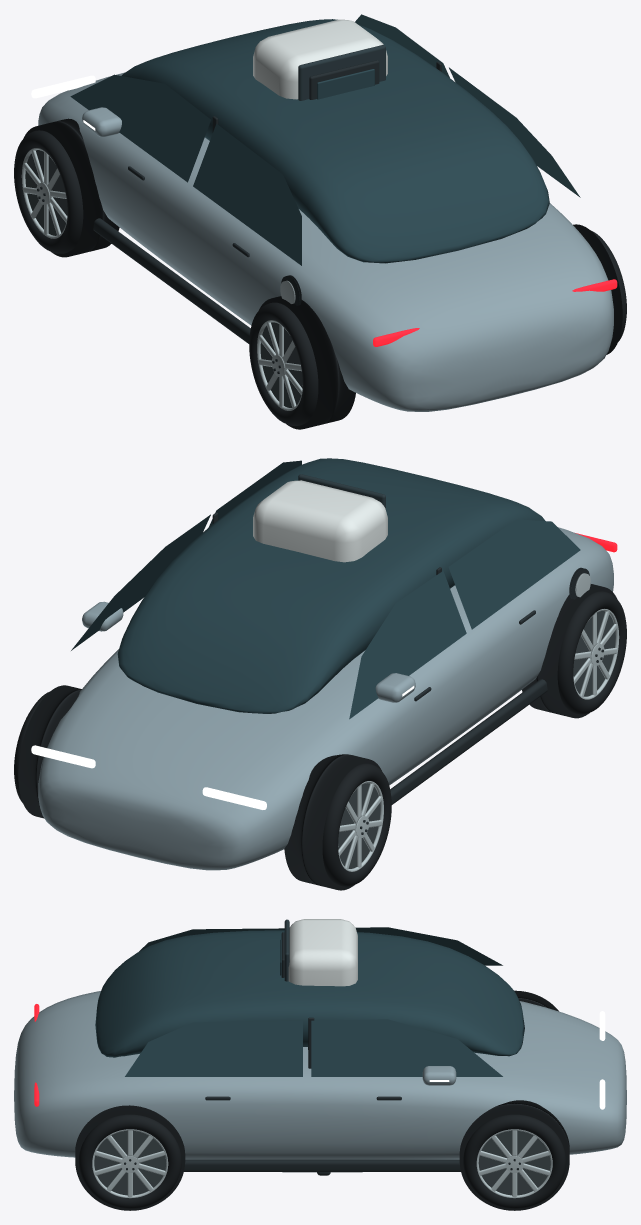
File: simulator-model.glb
The picture shows the model from 3 angles, top to bottom: view 1: azimuth 30°, elevation 25°; view 2: azimuth 150°, elevation 25°; view 3: azimuth 270°, elevation 25°; orthographic projection. The views are drawn at different scales.
Visible parts, largest first — view 1: Sculpted body, Panoramic glass canopy, Rear side window, Front side window, Upper cabinet, Tire sidewall, Tire sidewall.001, Tire, Tire.001, Lower rocker, Rear side window.001, Front fascia (+8 smaller); view 2: Sculpted body, Panoramic glass canopy, Upper cabinet, Rear side window, Front side window, Tire.001, Tire sidewall.001, Tire sidewall, Tire.003, Lower rocker, Front side window.001, Tire (+8 smaller); view 3: Sculpted body, Panoramic glass canopy, Rear side window.001, Front side window.001, Upper cabinet, Tire sidewall.002, Tire sidewall.003, Lower rocker.001, Alloy rim.003, Alloy rim.002, Tire.003, Tire.002 (+5 smaller).
Part boxes in pixels (left/top/right/bottom): Sculpted body: left=38, top=72, right=613, bottom=411; Panoramic glass canopy: left=121, top=19, right=549, bottom=263; Rear side window: left=193, top=123, right=301, bottom=265; Front side window: left=70, top=74, right=210, bottom=182; Upper cabinet: left=253, top=19, right=387, bottom=99; Tire sidewall: left=249, top=302, right=318, bottom=425; Tire sidewall.001: left=14, top=130, right=83, bottom=253; Tire: left=259, top=296, right=355, bottom=429; Tire.001: left=23, top=118, right=119, bottom=257; Lower rocker: left=93, top=218, right=250, bottom=343; Rear side window.001: left=449, top=67, right=580, bottom=197; Front fascia: left=298, top=45, right=385, bottom=100; Sculpted body: left=38, top=527, right=613, bottom=870; Panoramic glass canopy: left=117, top=458, right=545, bottom=713; Upper cabinet: left=253, top=480, right=387, bottom=562; Rear side window: left=448, top=519, right=580, bottom=629; Front side window: left=349, top=571, right=466, bottom=719; Tire.001: left=284, top=754, right=381, bottom=890; Tire sidewall.001: left=322, top=763, right=391, bottom=886; Tire sidewall: left=557, top=591, right=626, bottom=714; Tire.003: left=18, top=685, right=81, bottom=818; Lower rocker: left=390, top=679, right=547, bottom=804; Front side window.001: left=71, top=514, right=210, bottom=650; Tire: left=522, top=584, right=617, bottom=718; Sculpted body: left=14, top=991, right=626, bottom=1159; Panoramic glass canopy: left=95, top=930, right=524, bottom=1057; Rear side window.001: left=125, top=1020, right=302, bottom=1076; Front side window.001: left=311, top=1019, right=502, bottom=1076; Upper cabinet: left=288, top=919, right=357, bottom=986; Tire sidewall.002: left=78, top=1114, right=181, bottom=1208; Tire sidewall.003: left=463, top=1114, right=566, bottom=1208; Lower rocker.001: left=184, top=1159, right=460, bottom=1171; Alloy rim.003: left=478, top=1130, right=550, bottom=1195; Alloy rim.002: left=94, top=1130, right=165, bottom=1195; Tire.003: left=459, top=1100, right=569, bottom=1210; Tire.002: left=75, top=1105, right=185, bottom=1210.
Bounding box in the file's own units: 2.2 × 1.93 × 4.4.
